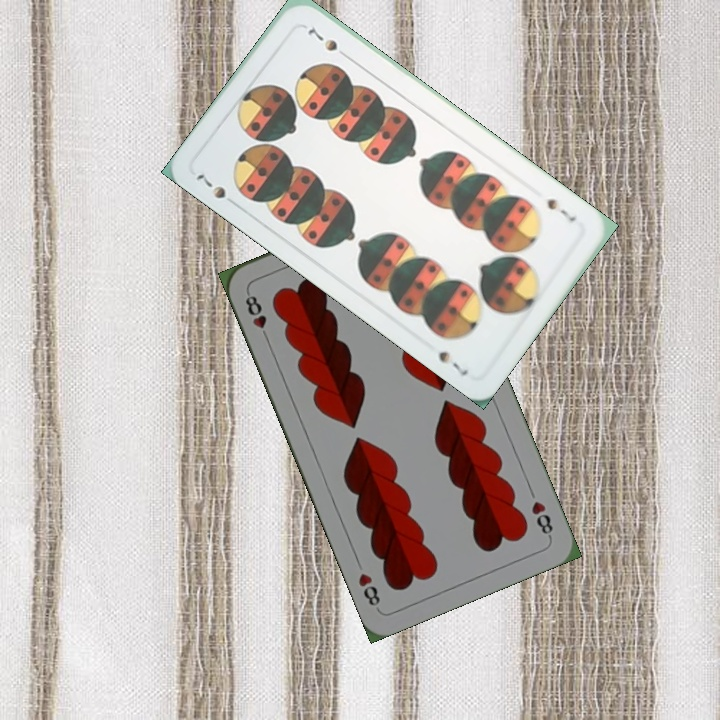H8: (241, 287, 272, 344), (527, 496, 556, 541)
S7: (191, 169, 229, 202), (543, 194, 579, 225)
